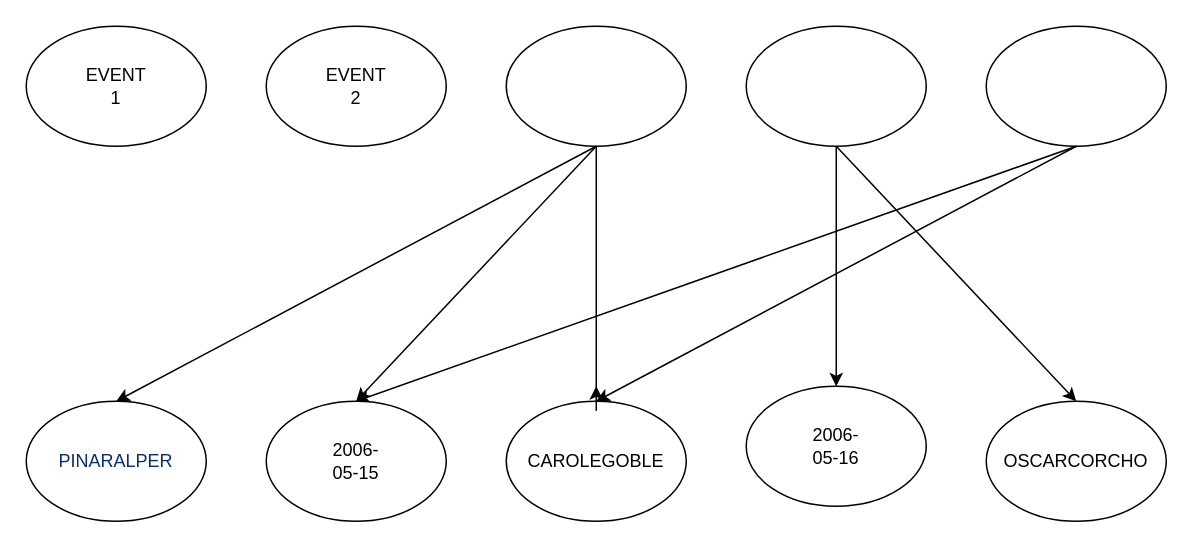
The diagram is 1193 pixels wide and 560 high, and some of its shapes have lost their labels. Each missing label, with the box of its shape:
EVENT 3: (505, 25, 686, 146)
EVENT 4: (745, 25, 926, 146)
EVENT 5: (985, 25, 1166, 146)
